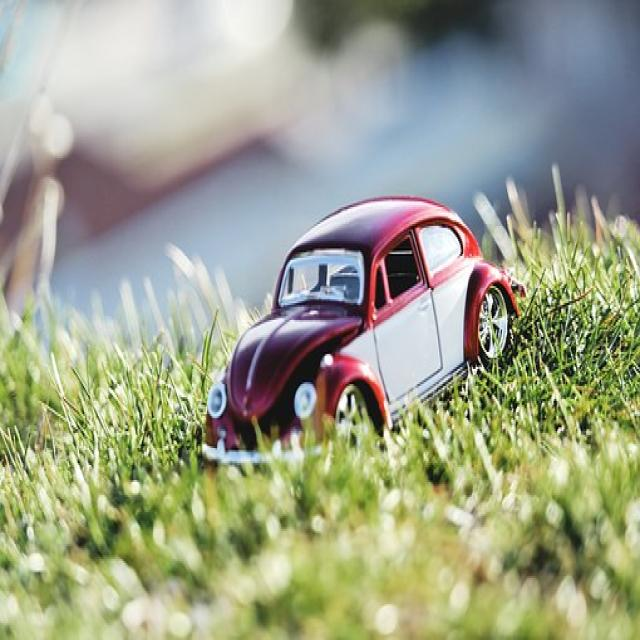Car: (204, 194, 526, 454)
